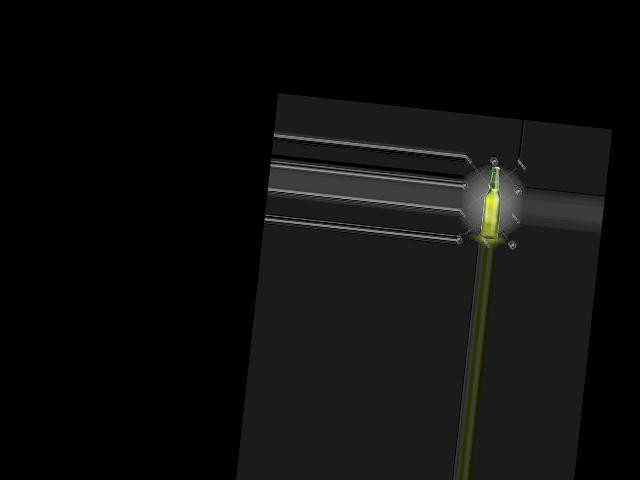beer: (479, 165, 504, 238)
